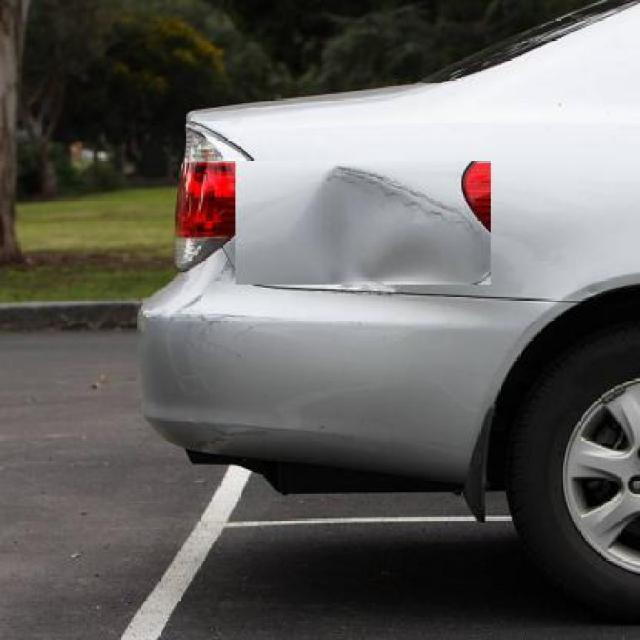dent: (242, 166, 492, 291)
